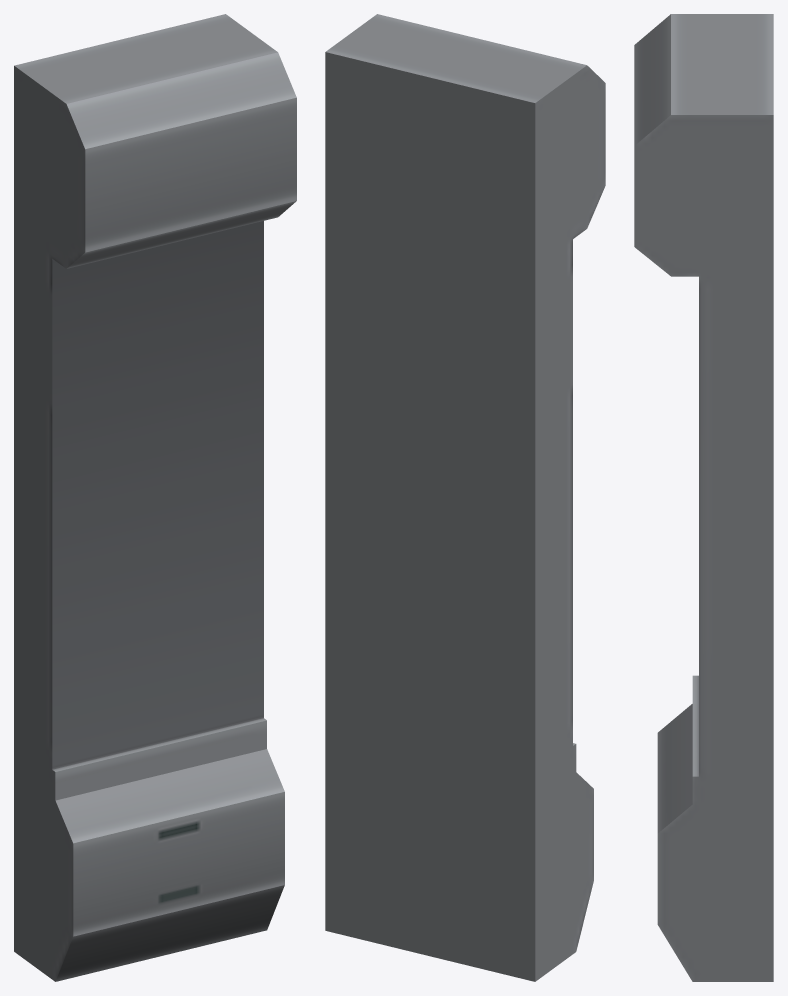
Rendered from SM_Laboratory_Wall_02.fbx.
3 renders of one model, left to right at view 1: azimuth 30°, elevation 25°; view 2: azimuth 150°, elevation 25°; view 3: azimuth 270°, elevation 25°, orthographic. The views are drawn at different scales.
Parts seen in each view (by area): view 1: SM; view 2: SM; view 3: SM.
Boxes of the visible parts, bbox=[...] form: SM: bbox=[14, 14, 296, 981]; SM: bbox=[325, 14, 605, 981]; SM: bbox=[634, 14, 773, 981].
Size of the model in its own units: 70 by 280 by 40.69.
Materials: 1 (1 with a texture image).
